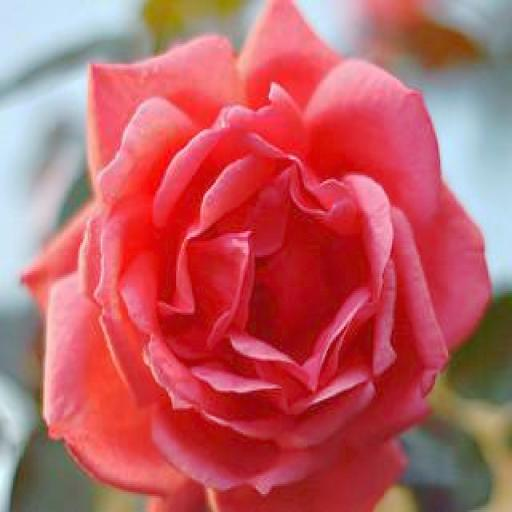rose: (24, 4, 494, 512)
